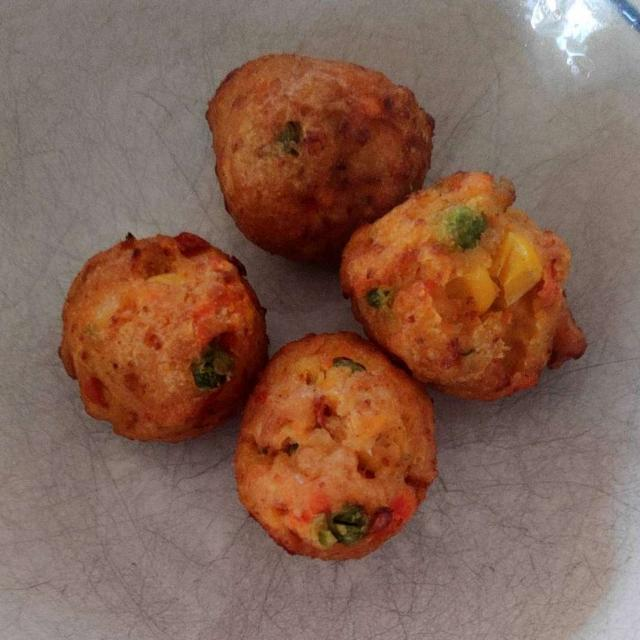falafel-balls: (65, 64, 581, 554)
